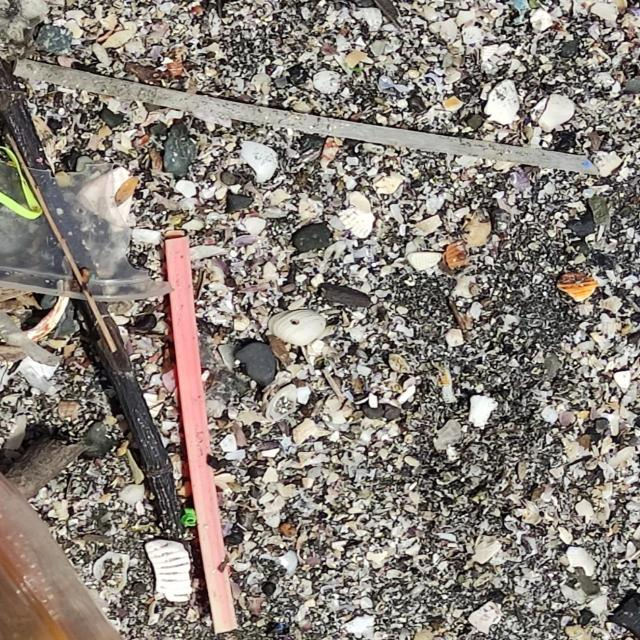plastic_waste: (10, 57, 603, 179), (162, 235, 241, 624)
